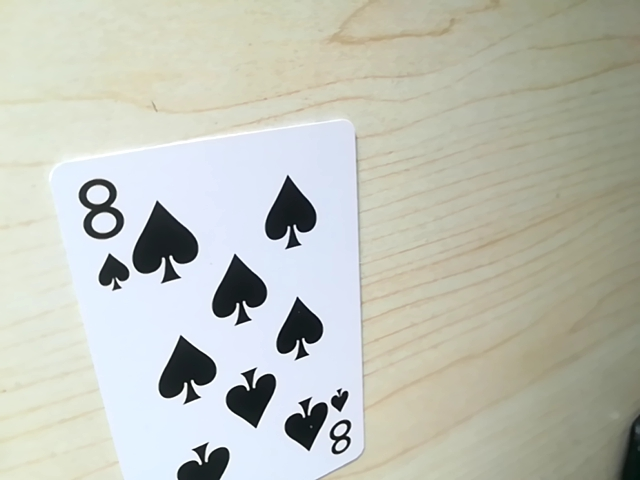ht 8: (70, 167, 137, 291), (316, 389, 357, 467)
